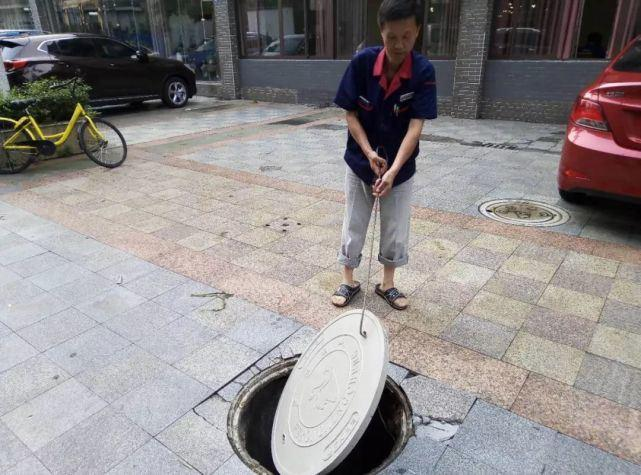uncovered: (205, 303, 447, 474)
